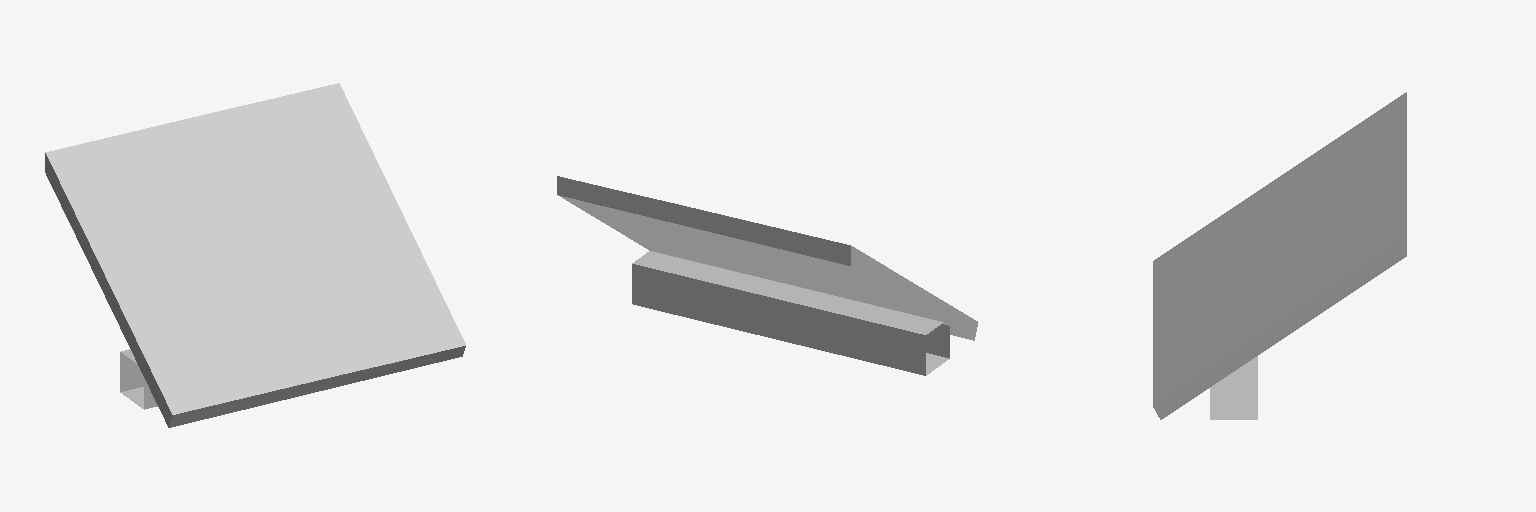
The model's file is Roof_Wooden_2x1_Center.obj.
3 views of the same model, side by side, from view 1: azimuth 30°, elevation 25°; view 2: azimuth 150°, elevation 25°; view 3: azimuth 270°, elevation 25° (orthographic).
Parts seen in each view (by area): view 1: Roof_Wooden_2x1_Center; view 2: Roof_Wooden_2x1_Center; view 3: Roof_Wooden_2x1_Center.
Part boxes in pixels (x1,y1,x2,y2): Roof_Wooden_2x1_Center: (45, 83, 465, 427); Roof_Wooden_2x1_Center: (557, 176, 977, 375); Roof_Wooden_2x1_Center: (1153, 92, 1406, 419).
Bounding box in the file's own units: 2 × 1.21 × 1.5.